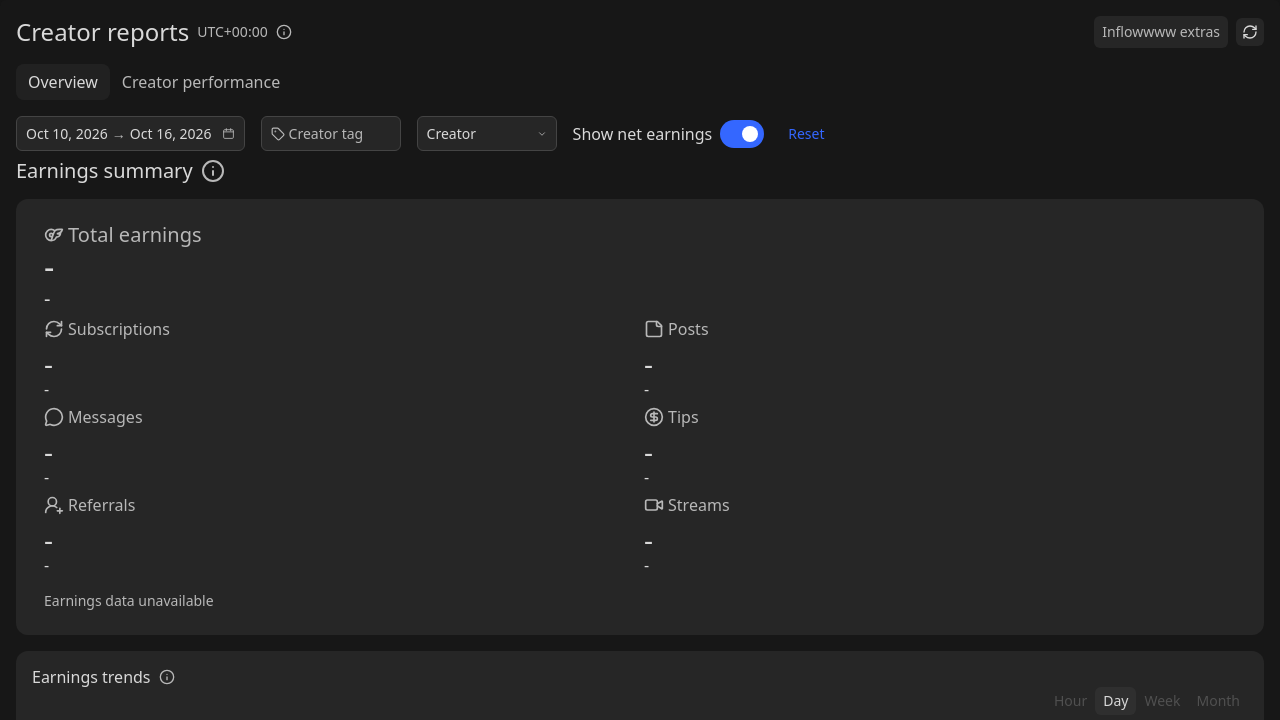
it: CompetitorReports page-parity 26 (#7, #148, #172) › shows a failed Creator performance block as Request failed with a Retry that reads again
Click the tab "Creator performance": click(201, 82) [110,64,292,100]
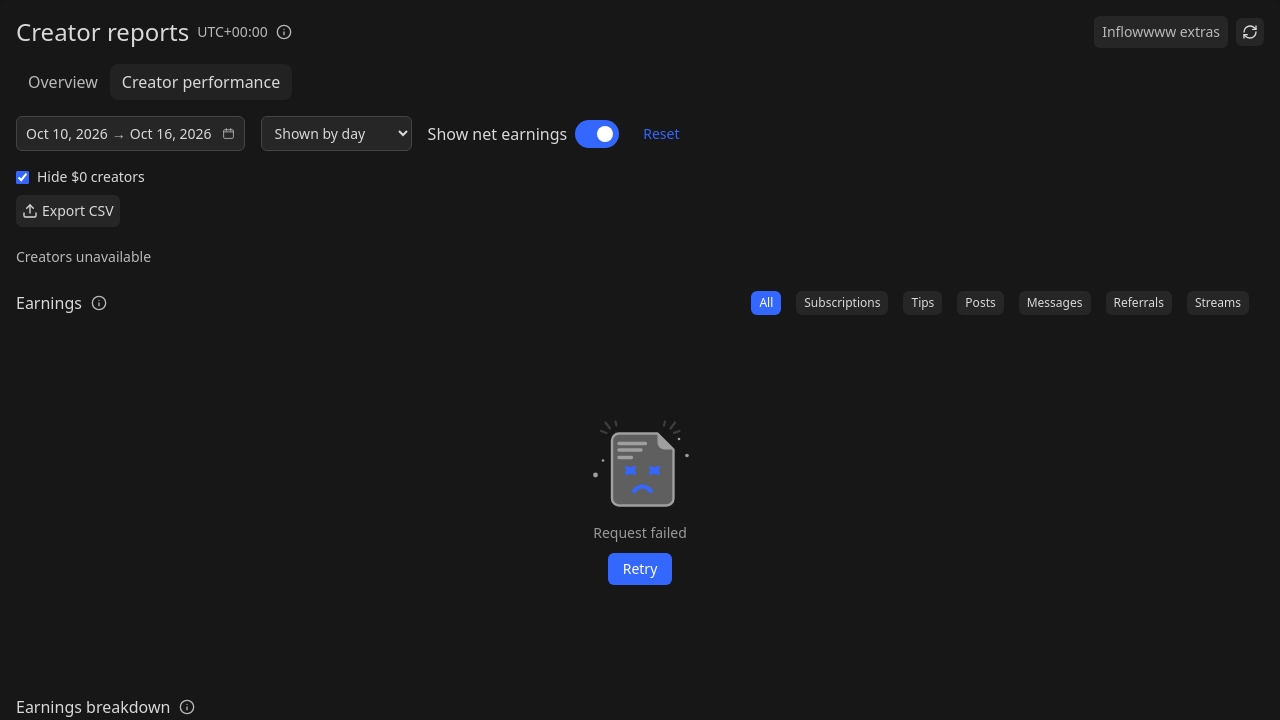
Expected: the 6th icon is shown, [578,414,702,514]
Result: the text "Request failed" is shown 4 times
Click the button "Retry": click(640, 568) [608,552,672,584]
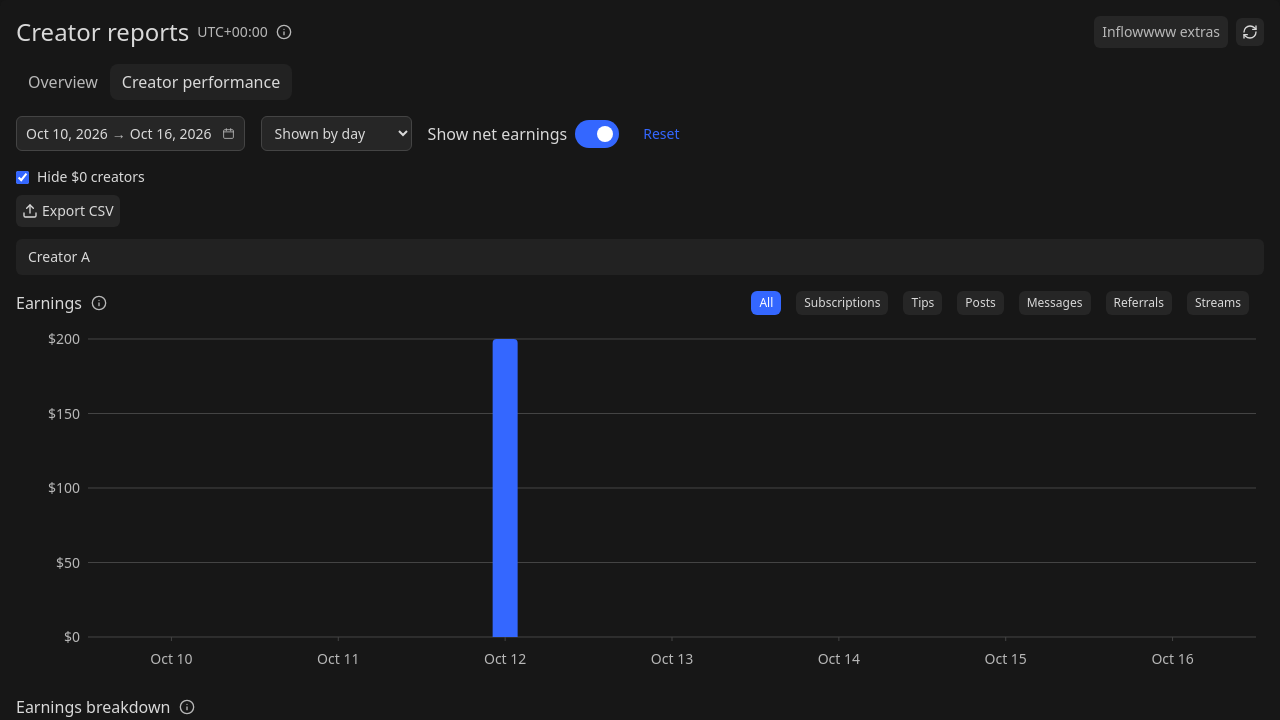
Result: the text "Request failed" is gone
